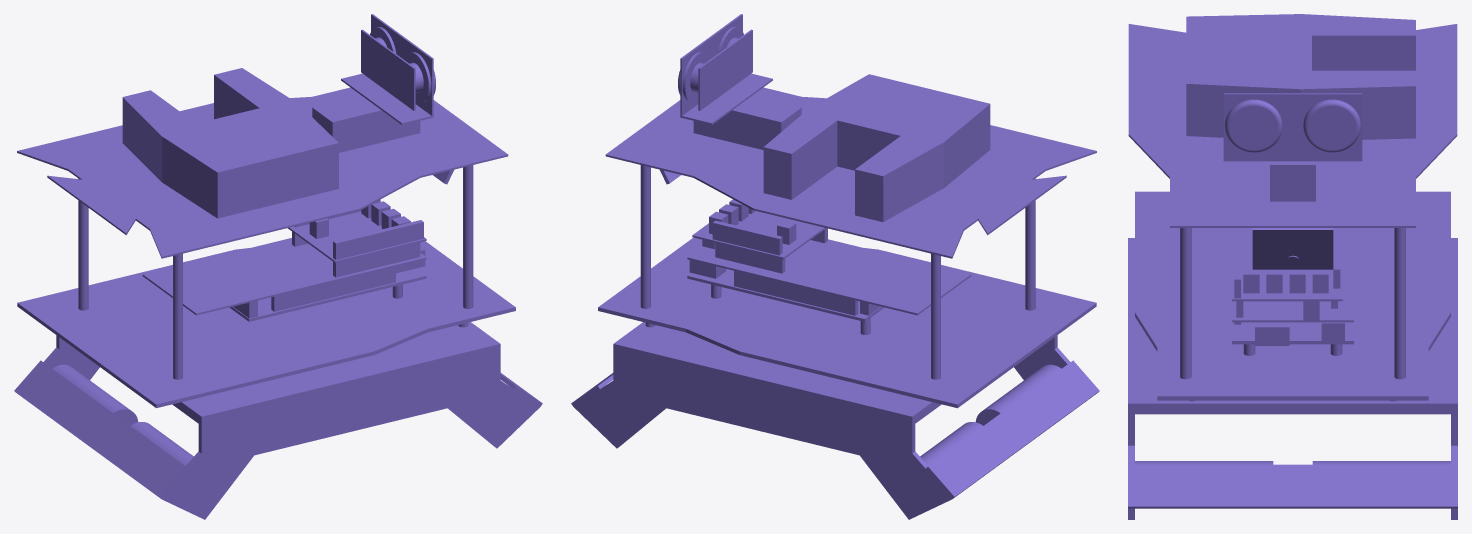
File: Cherokey_chassis.dae
3 views of the same model, side by side, from view 1: azimuth 30°, elevation 25°; view 2: azimuth 150°, elevation 25°; view 3: azimuth 270°, elevation 25° (orthographic). The views are drawn at different scales.
Visible parts, largest first — view 1: node0; view 2: node0; view 3: node0.
Part boxes in pixels (box(x1,y1,x2,y2)): node0: box(14, 14, 542, 519); node0: box(571, 14, 1099, 519); node0: box(1128, 14, 1457, 519).
Bounding box in the file's own units: 0.2181 × 0.143 × 0.198.
